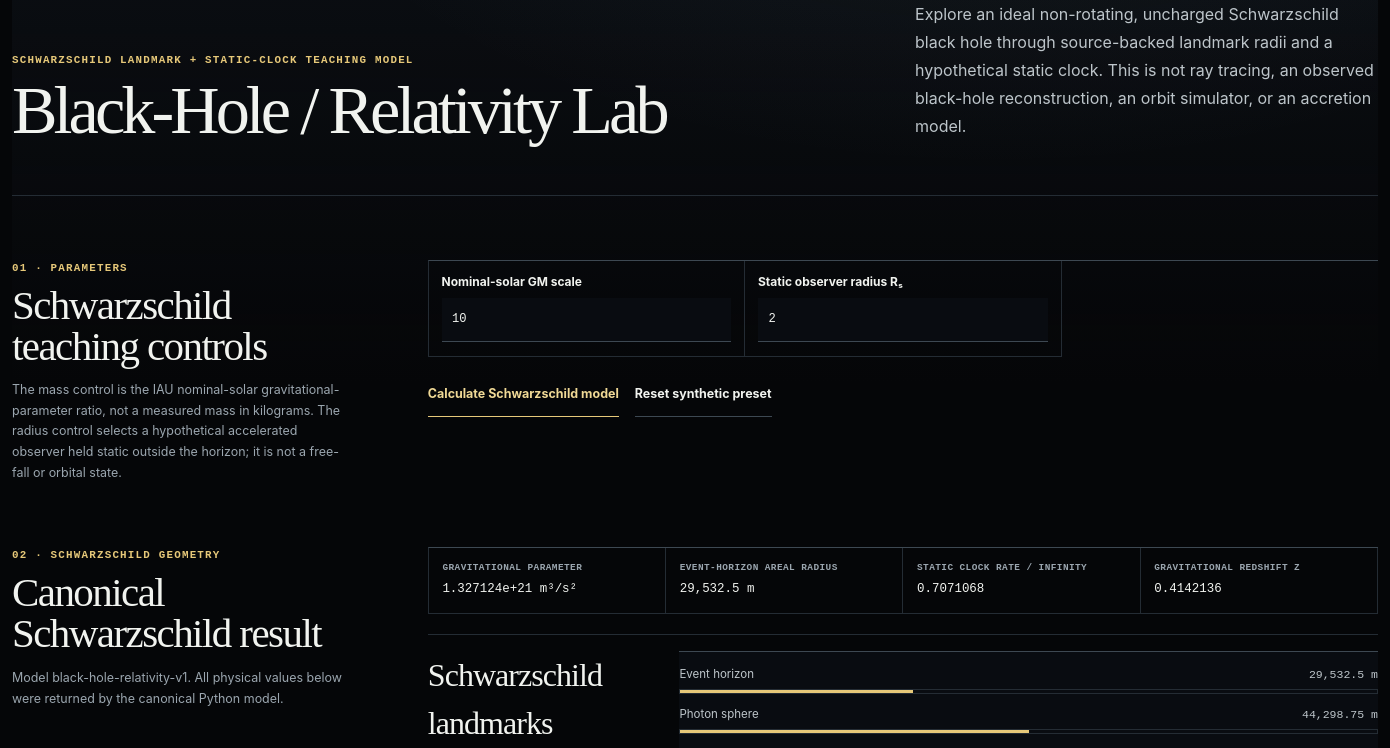
Test case: BlackHoleRelativityView › commits only an accepted exact Python-owned result
Replace the text in the number field named "Static observer radius in Schwarzschild radii" with "4": (903, 320) x1=758 y1=298 x2=1048 y2=342
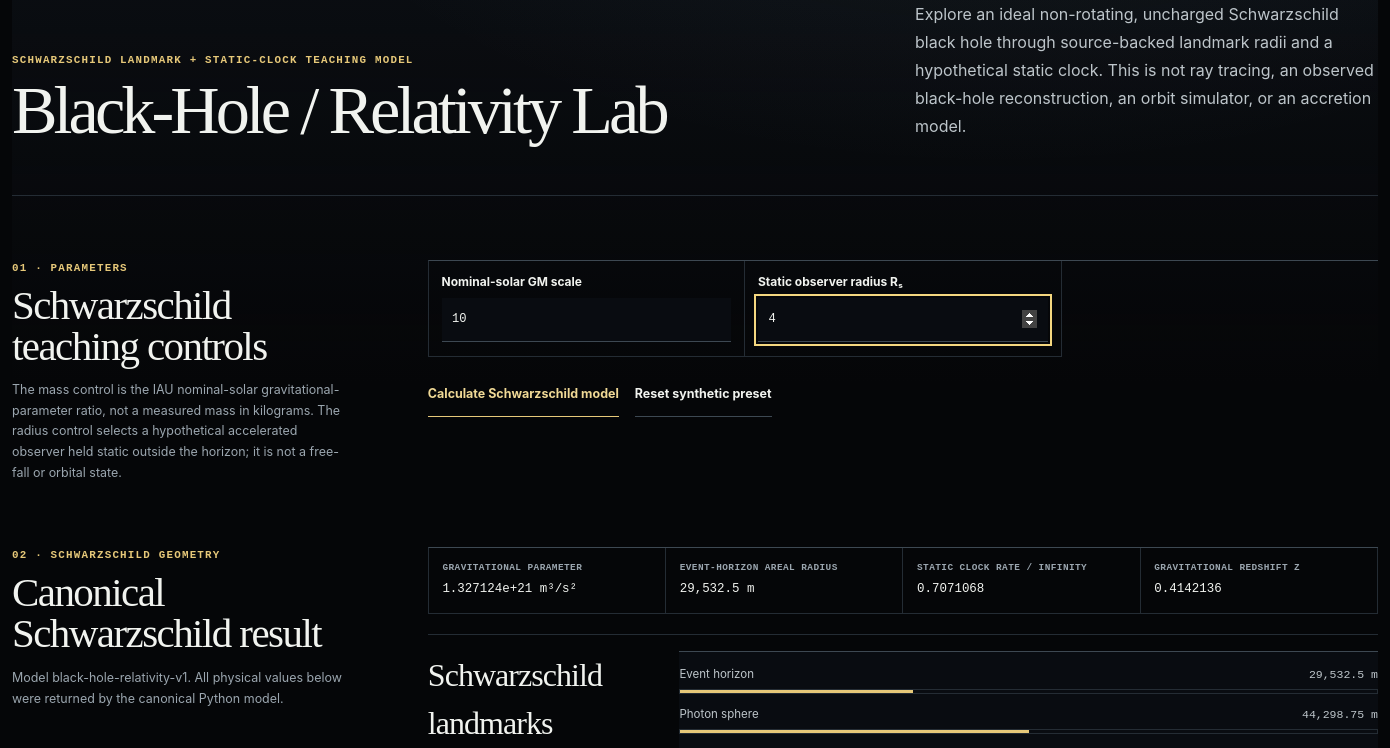
Click the button "Calculate Schwarzschild model": (523, 395) x1=428 y1=373 x2=619 y2=417
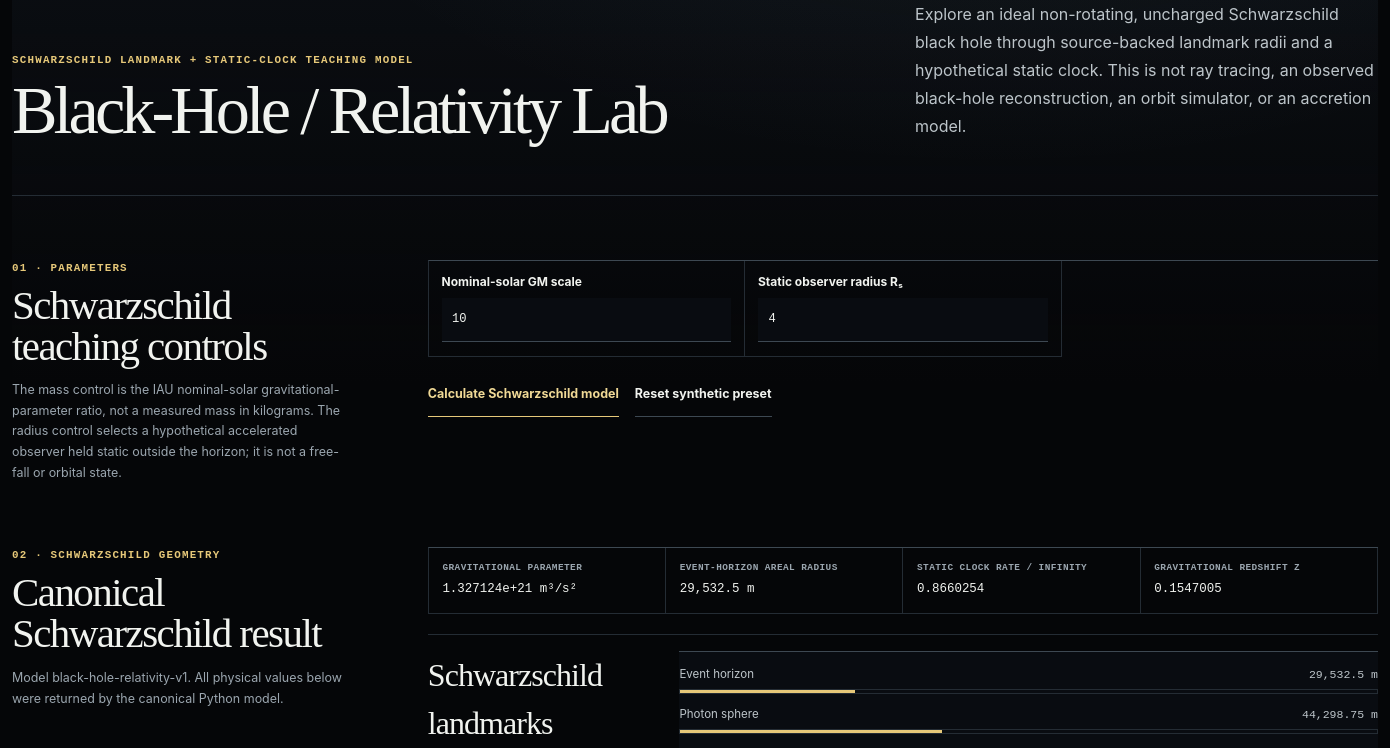
expect the text "0.1547005" is shown: met, box x1=1154 y1=582 x2=1222 y2=596
